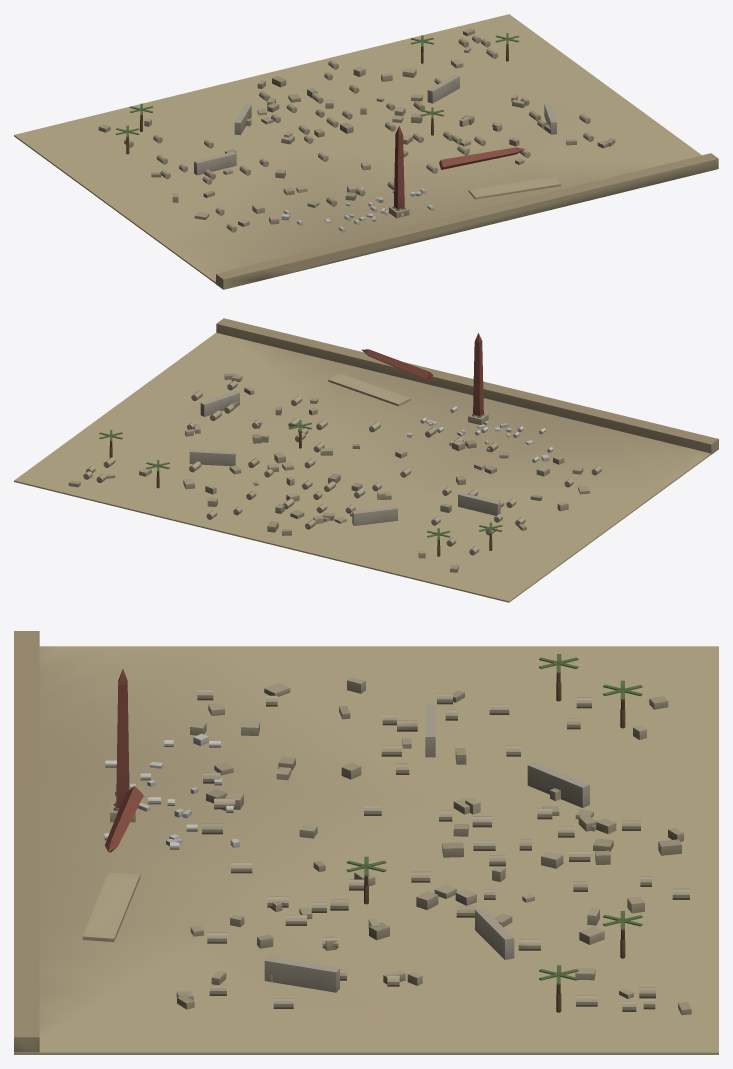
Rendered from needles.glb.
3 renders of one model, top to bottom at view 1: azimuth 30°, elevation 25°; view 2: azimuth 150°, elevation 25°; view 3: azimuth 270°, elevation 25°, orthographic. The views are drawn at different scales.
Visible parts, largest first — view 1: p0_ground, p1_needles, p2_palms; view 2: p0_ground, p1_needles, p2_palms; view 3: p0_ground, p1_needles, p2_palms.
Boxes of the visible parts, left/top/right/bottom form: p0_ground: left=14, top=14, right=718, bottom=289; p1_needles: left=194, top=74, right=561, bottom=218; p2_palms: left=116, top=33, right=519, bottom=143; p0_ground: left=14, top=318, right=718, bottom=602; p1_needles: left=189, top=333, right=500, bottom=525; p2_palms: left=99, top=420, right=502, bottom=545; p0_ground: left=14, top=631, right=718, bottom=1054; p1_needles: left=82, top=669, right=589, bottom=992; p2_palms: left=346, top=654, right=642, bottom=994.
Bounding box in the file's own units: 150 × 25.98 × 110.
